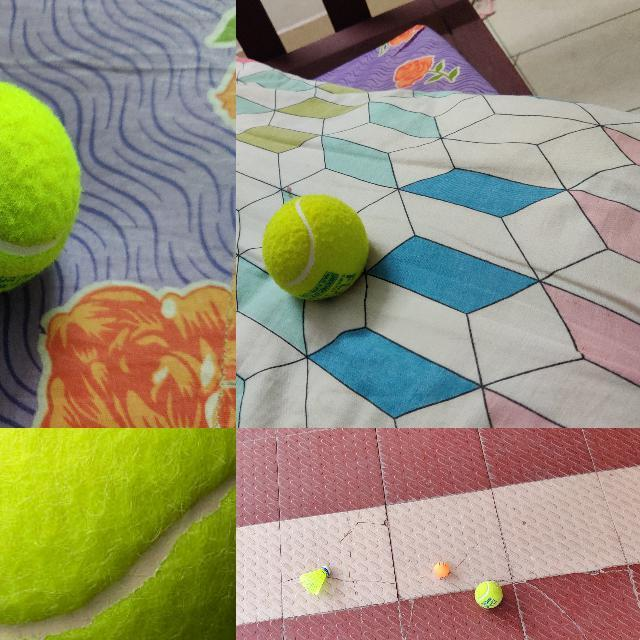tennis-ball: (0, 428, 235, 639), (0, 74, 83, 298), (262, 194, 368, 298), (474, 580, 502, 608)
